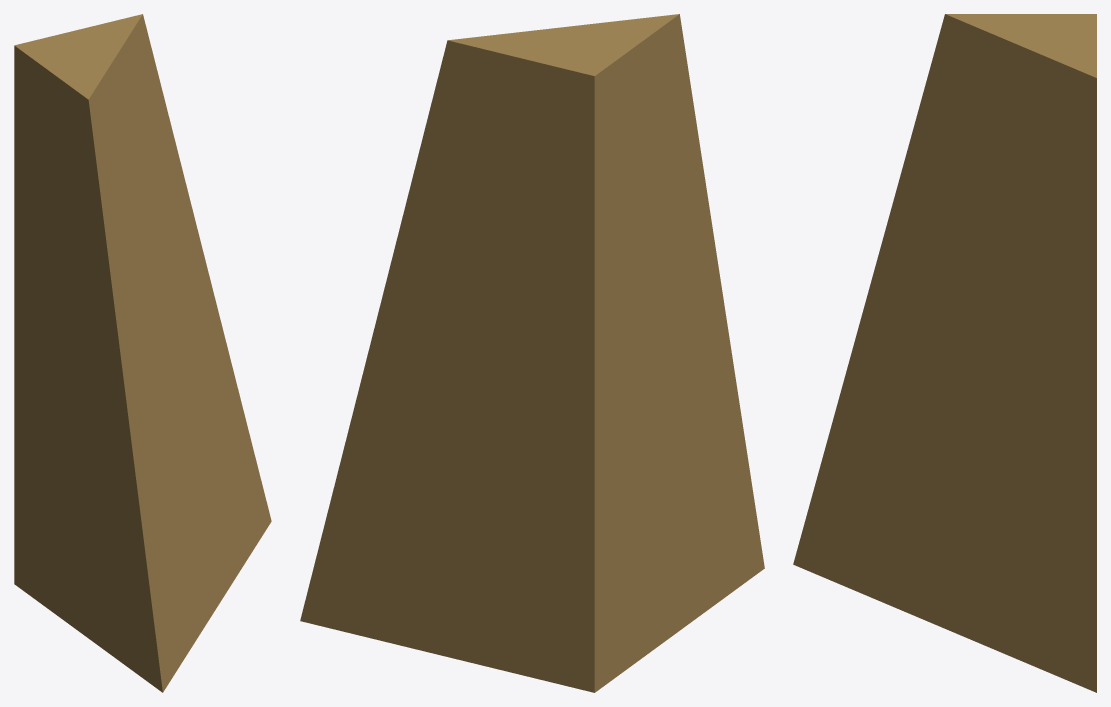
Rendered from Terrain_Tile_Dirt_Cliff_Face_Angled_Corner_01.fbx.
3 views of the same model, side by side, from view 1: azimuth 30°, elevation 25°; view 2: azimuth 150°, elevation 25°; view 3: azimuth 270°, elevation 25° (orthographic). The views are drawn at different scales.
Visible parts, largest first — view 1: Terrain_Tile_Dirt_Cliff_Face_Angled_Corner_01; view 2: Terrain_Tile_Dirt_Cliff_Face_Angled_Corner_01; view 3: Terrain_Tile_Dirt_Cliff_Face_Angled_Corner_01.
Part boxes in pixels (x1=…): Terrain_Tile_Dirt_Cliff_Face_Angled_Corner_01: x1=14, y1=14, x2=271, y2=692; Terrain_Tile_Dirt_Cliff_Face_Angled_Corner_01: x1=300, y1=14, x2=764, y2=692; Terrain_Tile_Dirt_Cliff_Face_Angled_Corner_01: x1=793, y1=14, x2=1096, y2=692.
Size of the model in its own units: 62.99 by 126 by 62.99.
